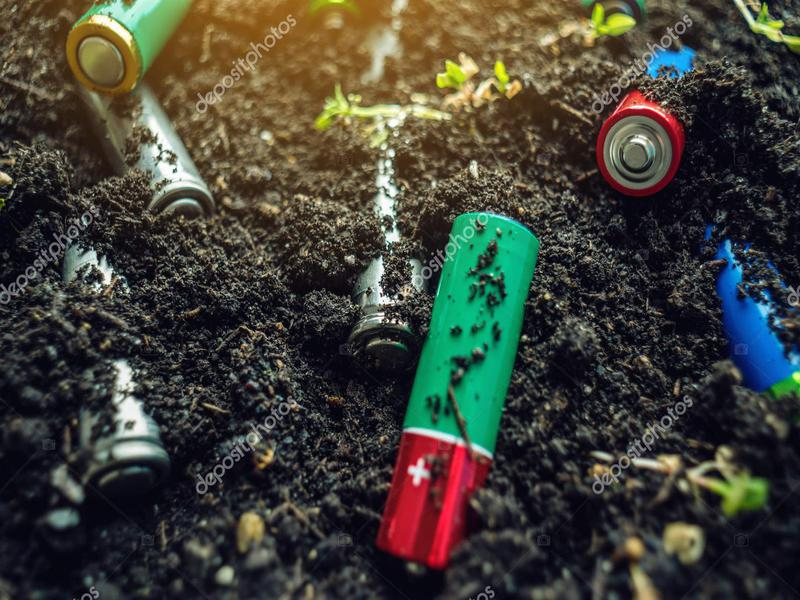battery: (372, 208, 548, 582)
